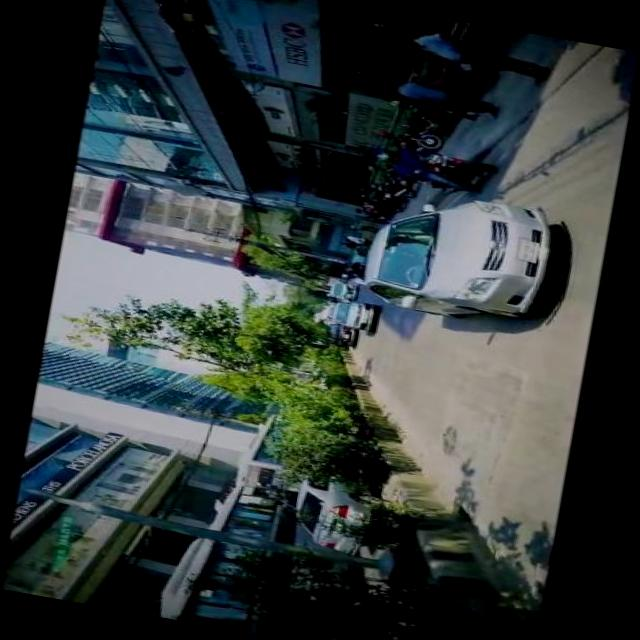bus: (156, 470, 352, 640), (231, 409, 307, 495)
car: (357, 183, 557, 334), (287, 468, 379, 556), (328, 296, 372, 332), (321, 322, 352, 347)
motorcycle: (412, 148, 495, 200), (400, 102, 450, 136), (392, 128, 441, 157), (376, 168, 412, 198), (366, 185, 399, 212)
truck: (326, 281, 354, 300)
